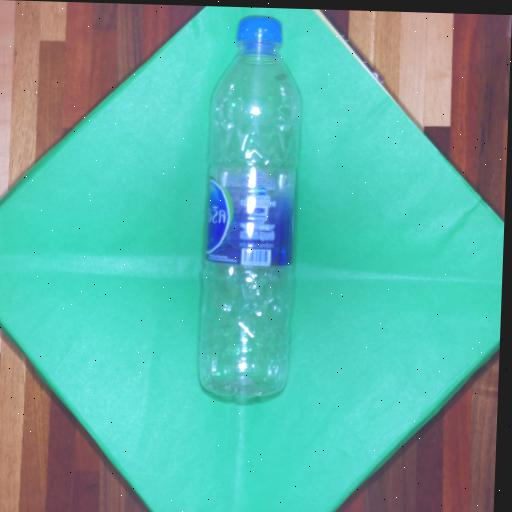bottle: (194, 12, 304, 404)
